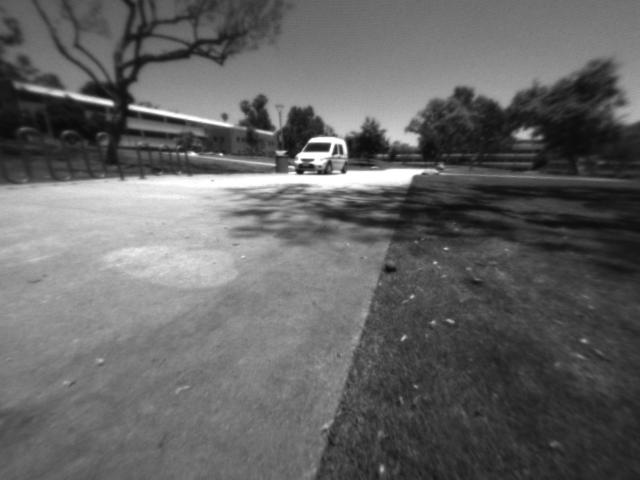dogtoy: (375, 247, 407, 276)
